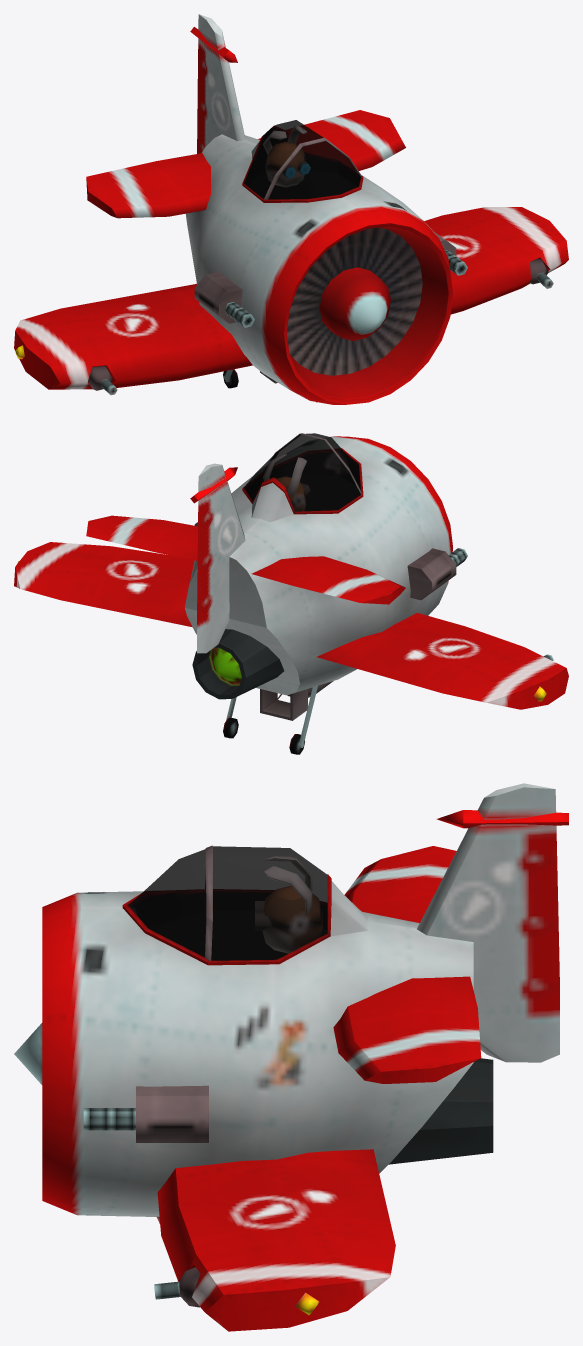
Rendered from avion3.glb.
The picture shows the model from 3 angles, top to bottom: view 1: azimuth 30°, elevation 25°; view 2: azimuth 150°, elevation 25°; view 3: azimuth 270°, elevation 25°; orthographic projection. The views are drawn at different scales.
Visible parts, largest first — view 1: Object_4, Object_3; view 2: Object_4, Object_3; view 3: Object_4, Object_3.
Boxes of the visible parts, x1,y1,x2,y2 form: Object_4: (14, 14, 568, 404); Object_3: (244, 120, 360, 199); Object_4: (14, 433, 568, 754); Object_3: (244, 433, 360, 511); Object_4: (14, 783, 568, 1331); Object_3: (128, 846, 327, 960).
Size of the model in its own units: 57.23 by 33.08 by 34.45.
2 materials, 1 textured.
